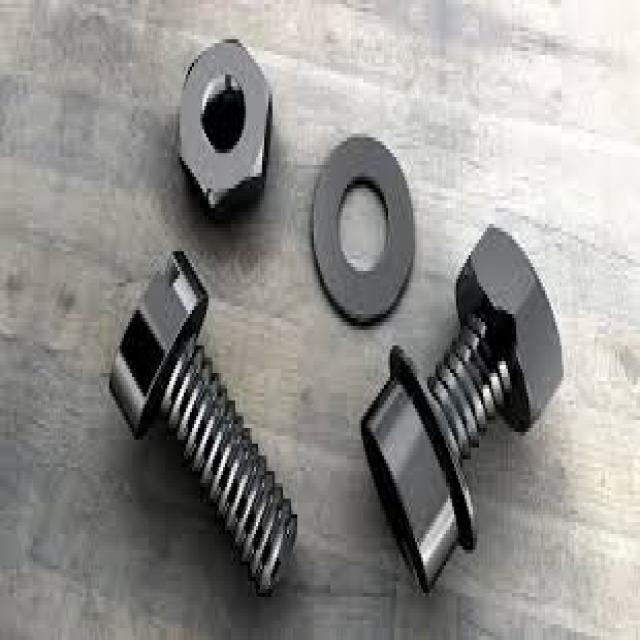Turning: (366, 220, 586, 620), (90, 255, 299, 618), (301, 122, 435, 337), (169, 19, 292, 235)
